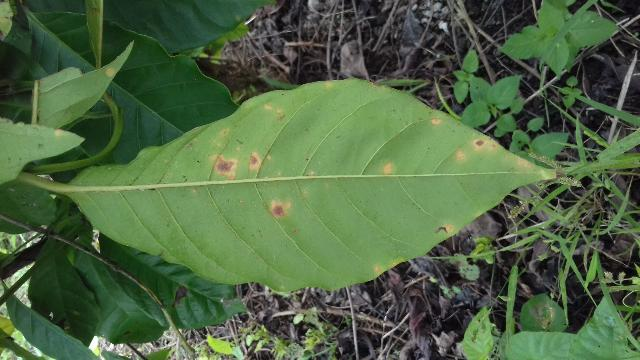rust_level_1: (40, 73, 567, 296)
